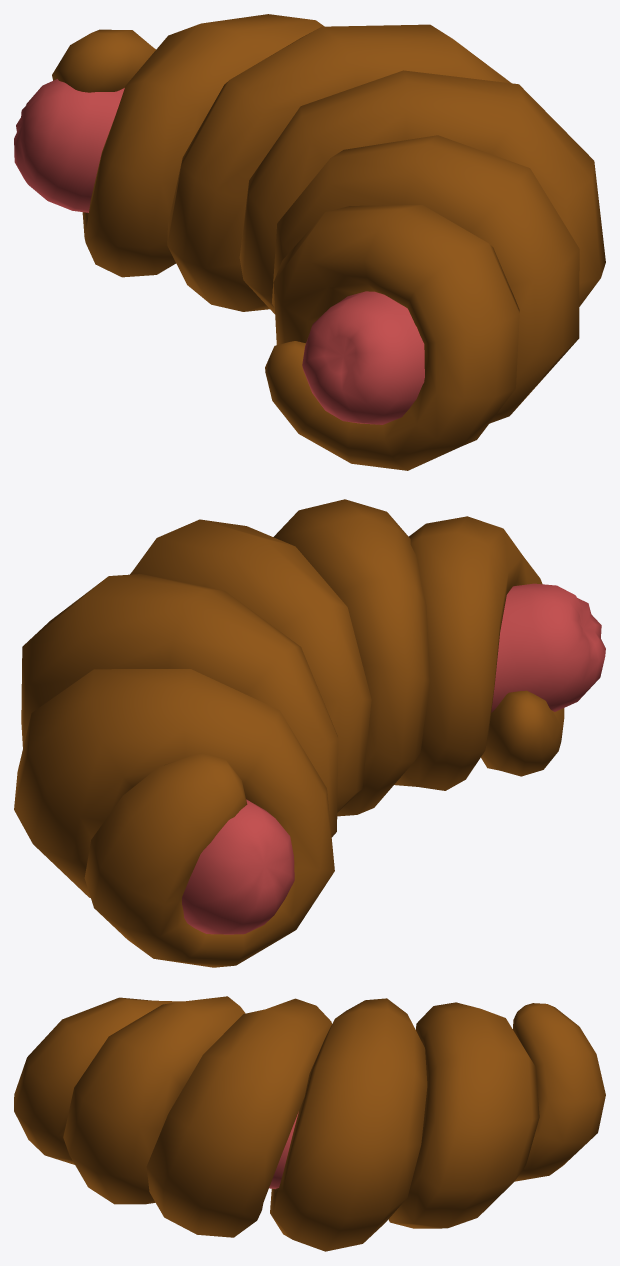
File: Sausage in dough.FBX
The picture shows the model from 3 angles, top to bottom: view 1: azimuth 30°, elevation 25°; view 2: azimuth 150°, elevation 25°; view 3: azimuth 270°, elevation 25°; orthographic projection. The views are drawn at different scales.
Visible parts, largest first — view 1: Sausage in dough; view 2: Sausage in dough; view 3: Sausage in dough.
Part boxes in pixels (x1,y1,x2,y2): Sausage in dough: (14, 14, 605, 470); Sausage in dough: (14, 499, 605, 967); Sausage in dough: (14, 996, 605, 1251).
Size of the model in its own units: 622 by 1069 by 450.
